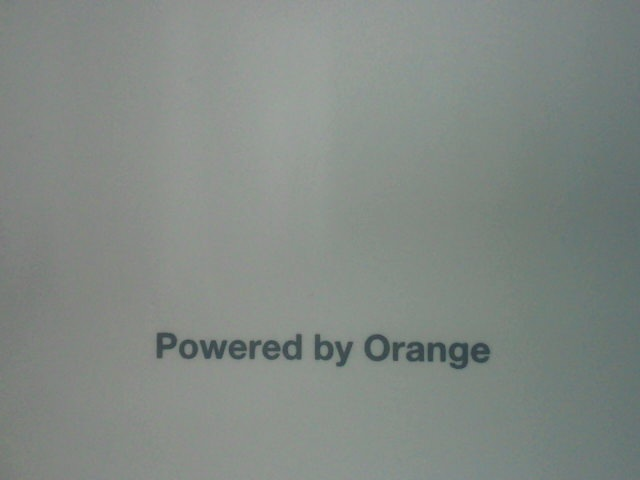AS_PowerByOrange: (147, 325, 504, 375)
